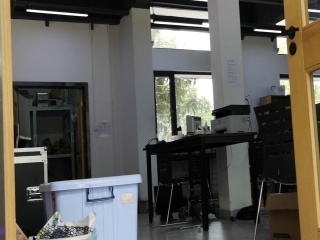room: (2, 2, 320, 239)
